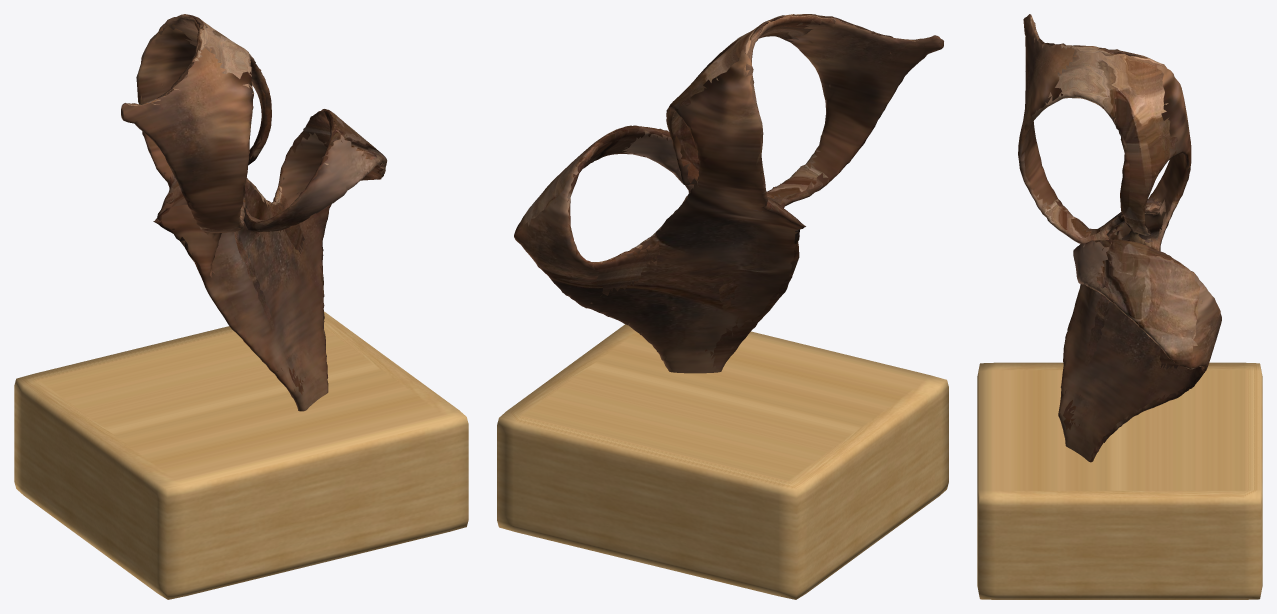
File: escultura-esc-034.glb
3 renders of one model, left to right at view 1: azimuth 30°, elevation 25°; view 2: azimuth 150°, elevation 25°; view 3: azimuth 270°, elevation 25°, orthographic. The views are drawn at different scales.
Parts seen in each view (by area): view 1: world; view 2: world; view 3: world.
Boxes of the visible parts, <box> form: world: <box>14,14,468,599</box>; world: <box>497,14,948,599</box>; world: <box>977,14,1262,599</box>.
Size of the model in its own units: 0.824 by 1.16 by 0.6491.
Materials: 1 (1 with a texture image).
